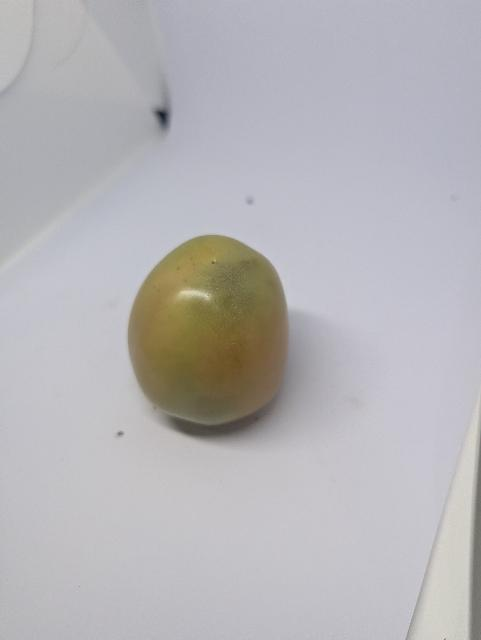breaker: (128, 235, 289, 425)
